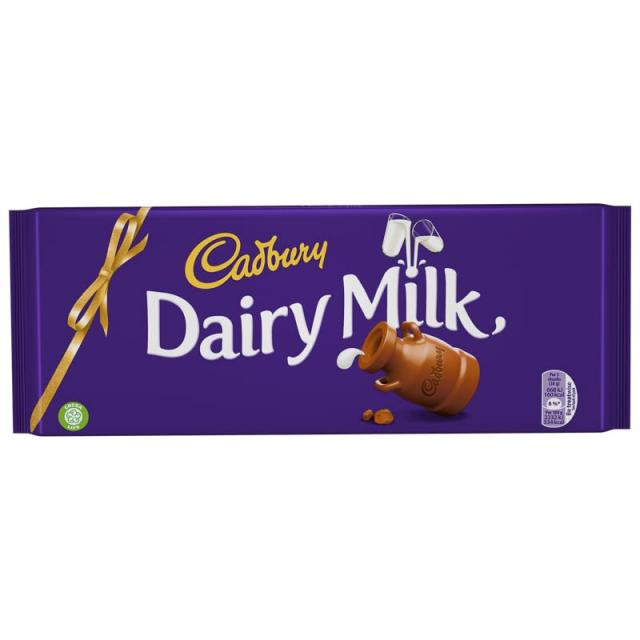cadbury: (6, 202, 630, 436)
